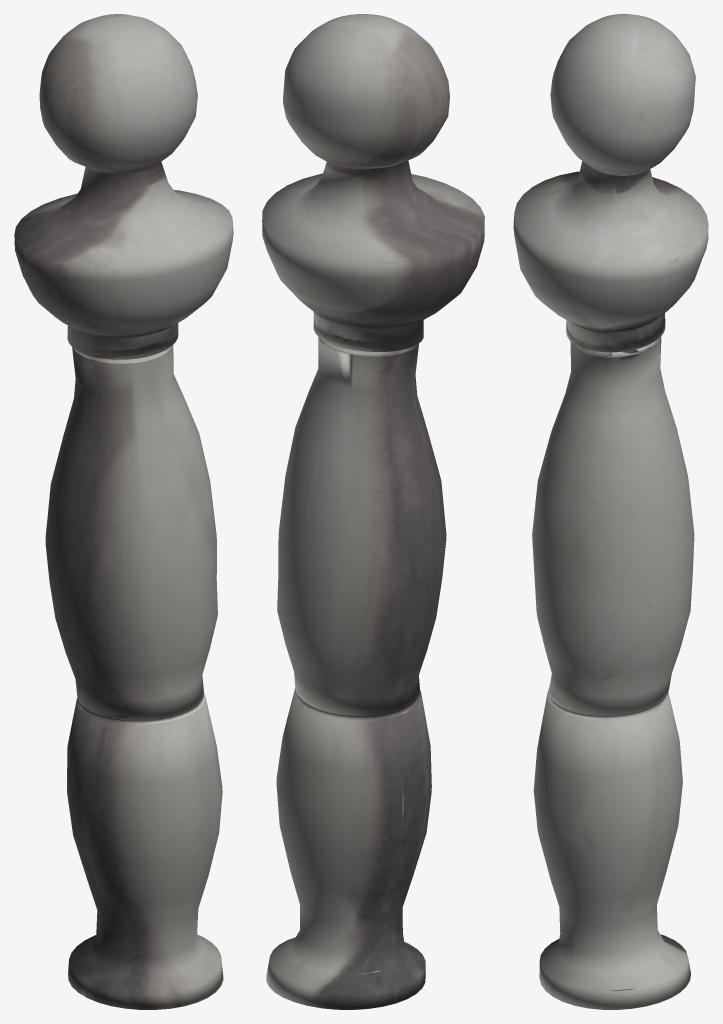
Rendered from scaccopiccolo.obj.
3 renders of one model, left to right at view 1: azimuth 30°, elevation 25°; view 2: azimuth 150°, elevation 25°; view 3: azimuth 270°, elevation 25°, orthographic. The views are drawn at different scales.
Visible parts, largest first — view 1: scacco_basso_Cerchio.007; view 2: scacco_basso_Cerchio.007; view 3: scacco_basso_Cerchio.007.
Boxes of the visible parts, x1,y1,x2,y2 form: scacco_basso_Cerchio.007: (14, 14, 233, 1009); scacco_basso_Cerchio.007: (262, 14, 484, 1009); scacco_basso_Cerchio.007: (513, 14, 708, 1009).
Bounding box in the file's own units: 0.5952 × 2.77 × 0.5195.
